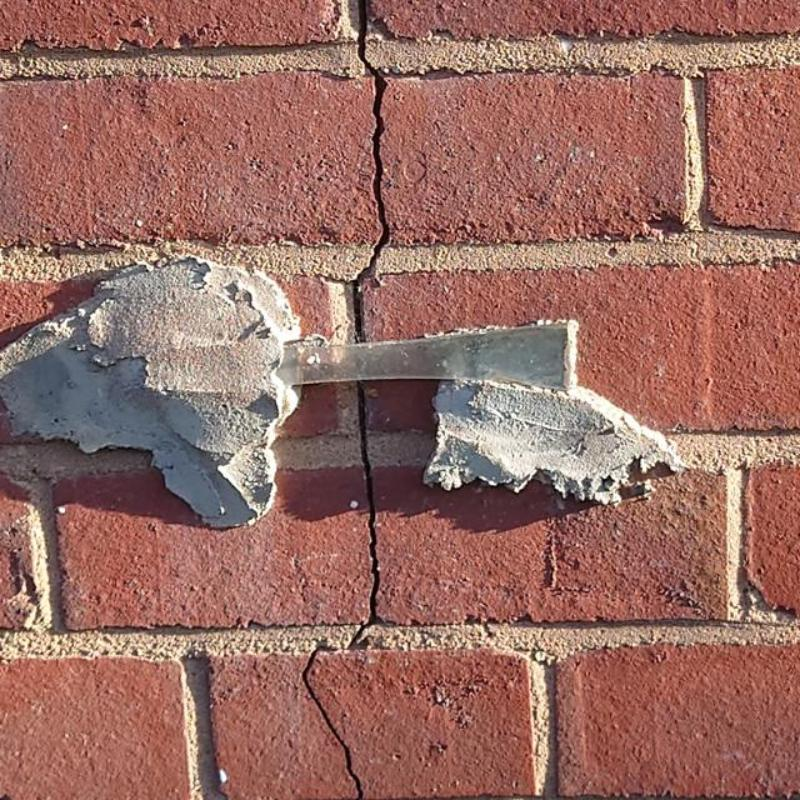crack: (303, 383, 383, 799), (353, 0, 391, 341)
